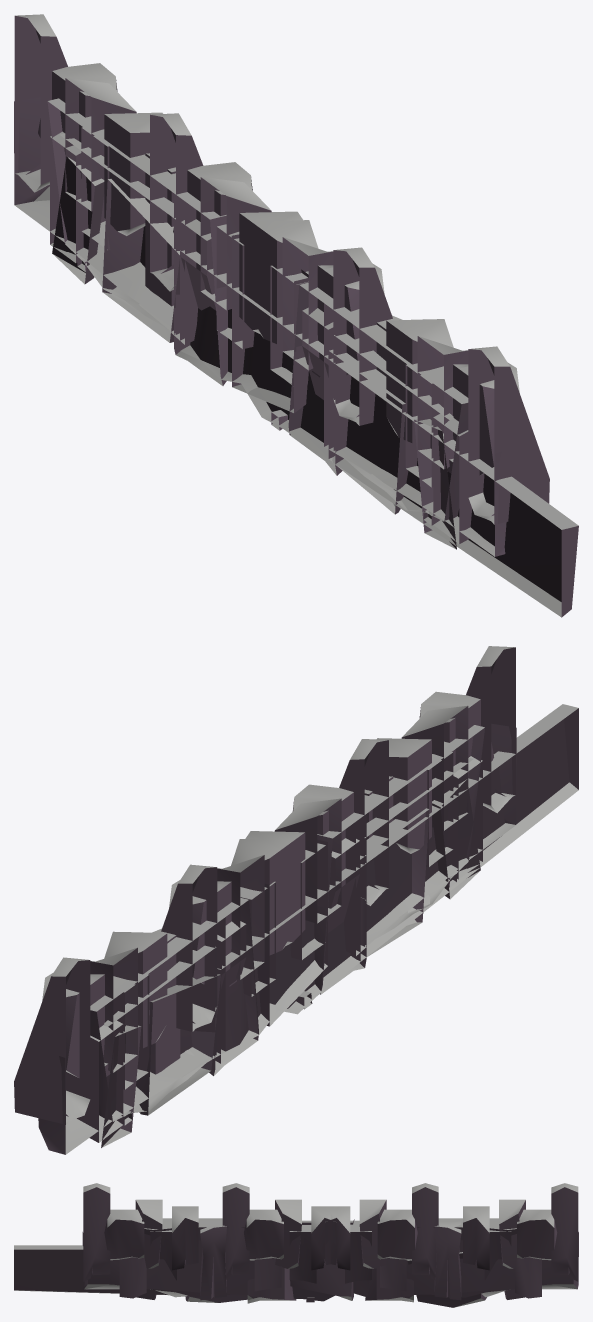
Rendered from env01_skirt01.FBX.
The picture shows the model from 3 angles, top to bottom: view 1: azimuth 30°, elevation 25°; view 2: azimuth 150°, elevation 25°; view 3: azimuth 270°, elevation 25°; orthographic projection. The views are drawn at different scales.
Parts seen in each view (by area): view 1: Object053; view 2: Object053; view 3: Object053.
Part boxes in pixels (left/top/right/bottom): Object053: left=14, top=14, right=578, bottom=617; Object053: left=14, top=646, right=578, bottom=1154; Object053: left=14, top=1183, right=578, bottom=1307.
Size of the model in its own units: 114 by 384 by 1633.
